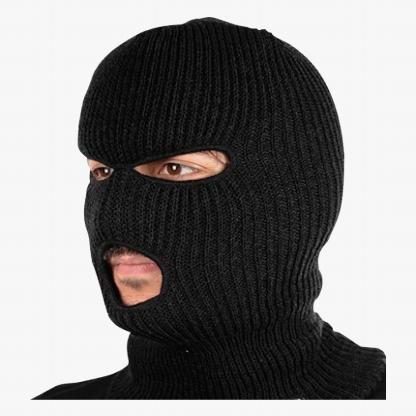criminal: (30, 17, 387, 400)
